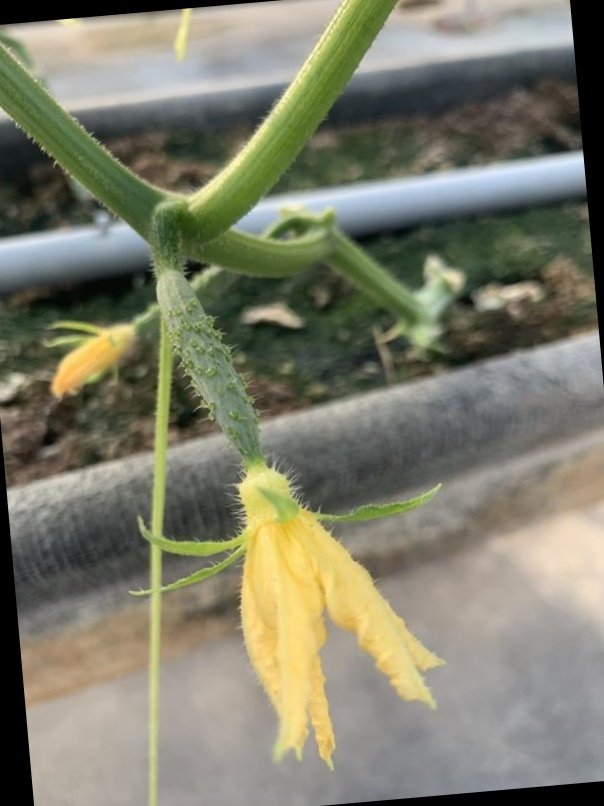bear: (113, 228, 464, 733)
